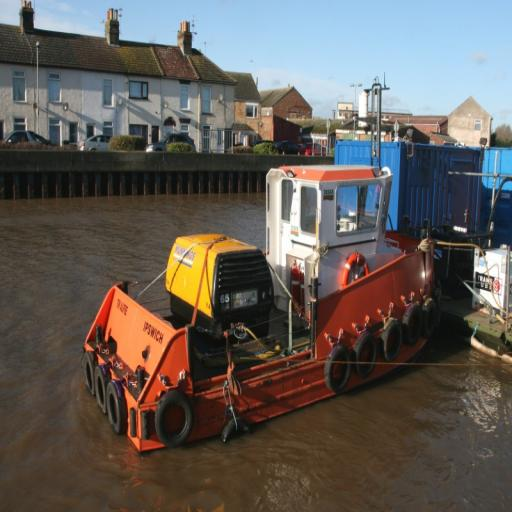tugboat: (82, 158, 456, 461)
